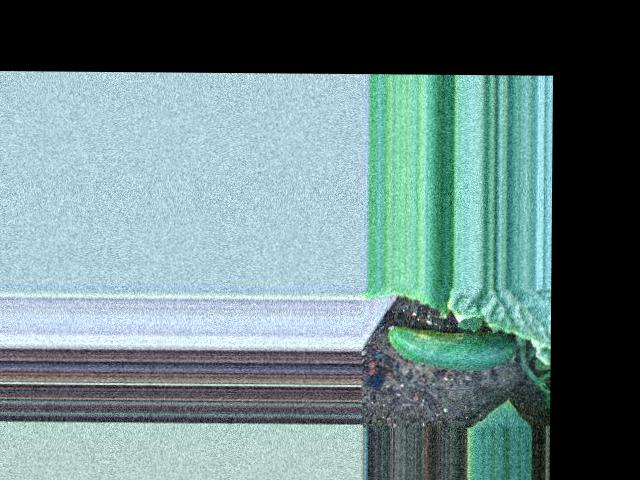cucumber: (387, 324, 515, 369)
